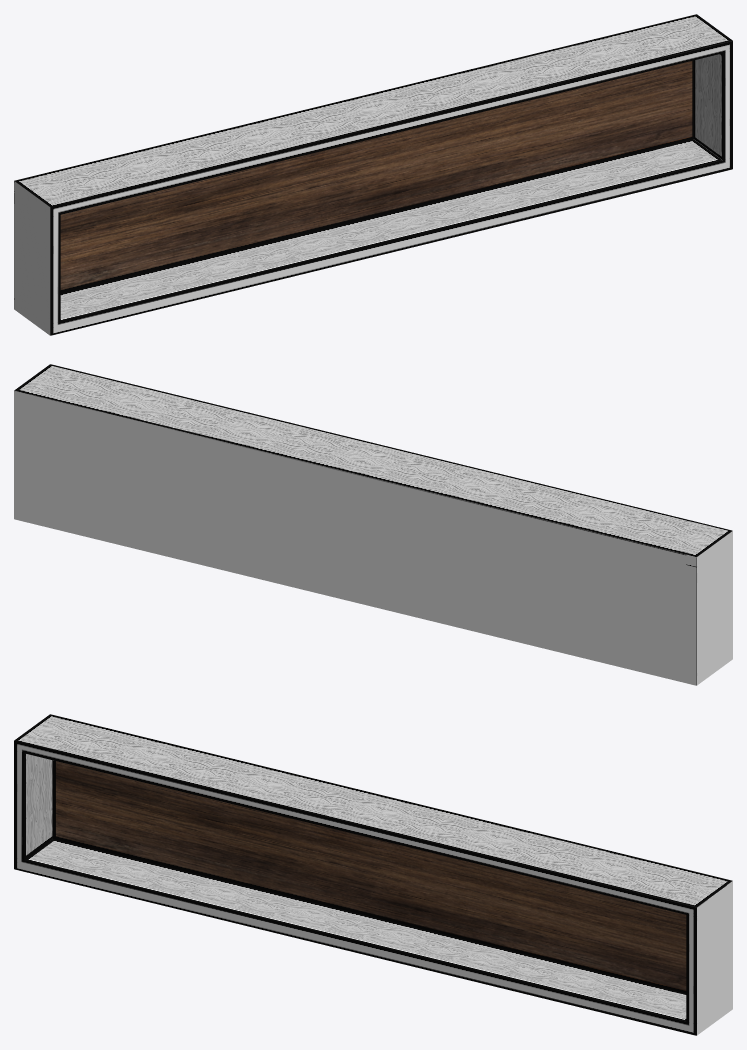
The model's file is BlockBoard.fbx.
3 views of the same model, one above another, from view 1: azimuth 30°, elevation 25°; view 2: azimuth 150°, elevation 25°; view 3: azimuth 330°, elevation 25° (orthographic).
Visible parts, largest first — view 1: BlockBoard; view 2: BlockBoard; view 3: BlockBoard.
Boxes of the visible parts, <box> form: BlockBoard: <box>14,14,732,335</box>; BlockBoard: <box>14,364,732,685</box>; BlockBoard: <box>14,714,732,1035</box>.
Bounding box in the file's own units: 132 × 23.76 × 12.15.
